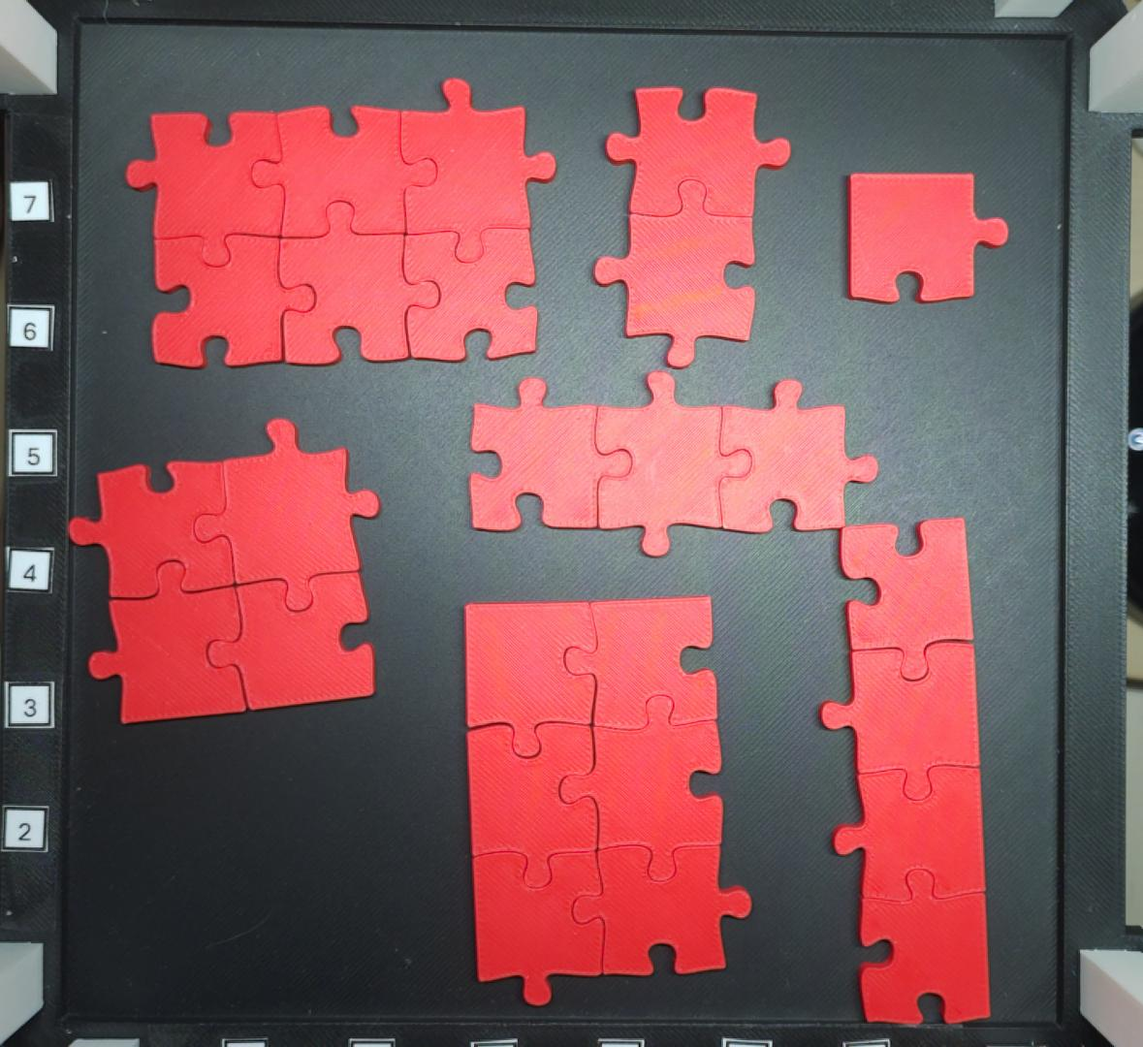p_1: (847, 172, 1009, 301)
p_2: (594, 86, 789, 365)
p_3: (471, 372, 880, 558)
p_4: (69, 417, 379, 726), (817, 518, 995, 1025)
p_m: (127, 78, 559, 369), (461, 596, 754, 1009)
